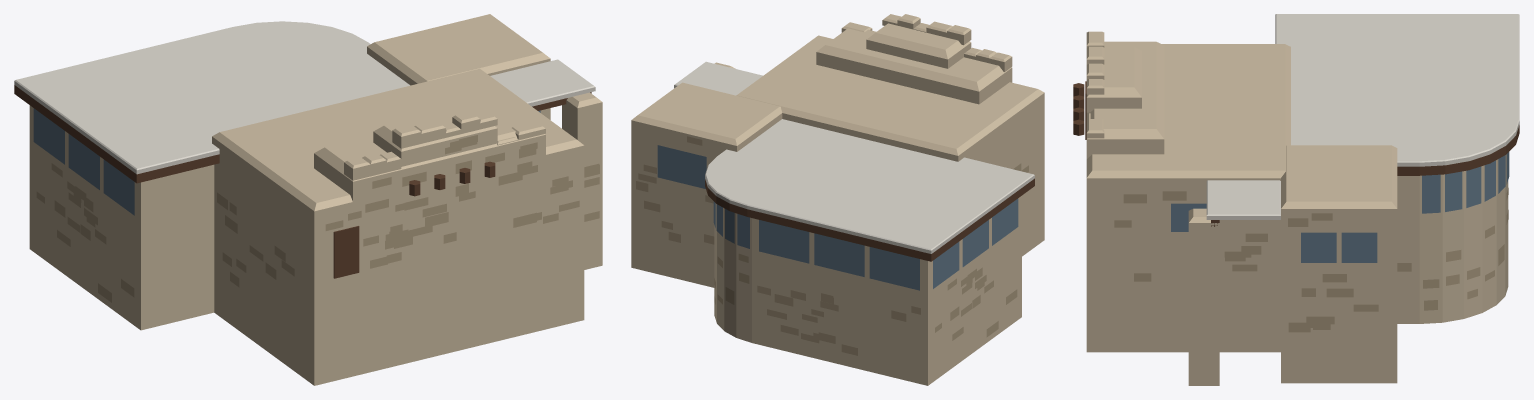
The model's file is grand-canyon-yavapai-geology-museum.glb.
3 views of the same model, side by side, from view 1: azimuth 30°, elevation 25°; view 2: azimuth 150°, elevation 25°; view 3: azimuth 270°, elevation 25° (orthographic). The views are drawn at different scales.
Parts seen in each view (by area): view 1: Yavapai Geology Museum; view 2: Yavapai Geology Museum; view 3: Yavapai Geology Museum.
Part boxes in pixels (left/top/right/bottom): Yavapai Geology Museum: left=14, top=14, right=602, bottom=385; Yavapai Geology Museum: left=631, top=14, right=1044, bottom=385; Yavapai Geology Museum: left=1073, top=14, right=1519, bottom=385.
Size of the model in its own units: 22 by 11.39 by 20.09.
